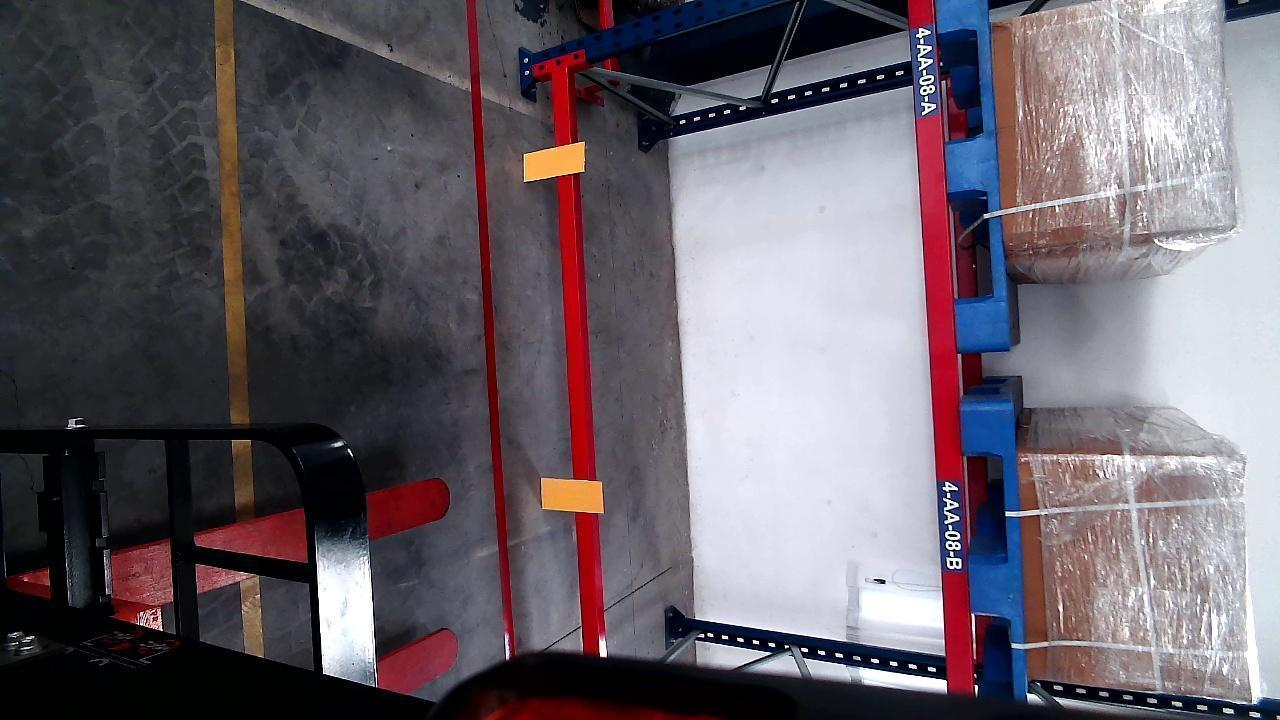red_line: (473, 0, 511, 664)
yellow_line: (215, 0, 250, 444)
